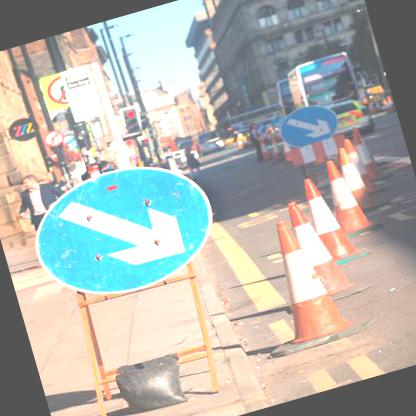cone: (228, 201, 372, 363), (284, 183, 378, 306), (300, 166, 372, 267), (315, 150, 384, 238), (338, 120, 394, 186), (254, 130, 288, 168)
